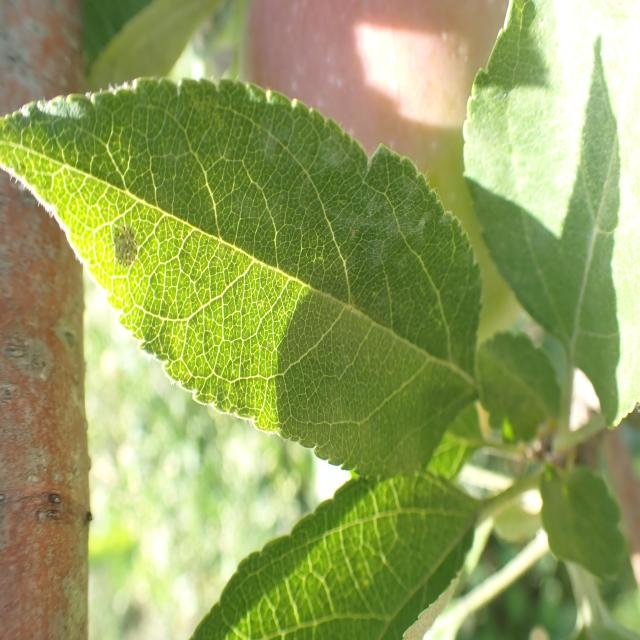Powdery_mildew: (44, 55, 468, 463)
